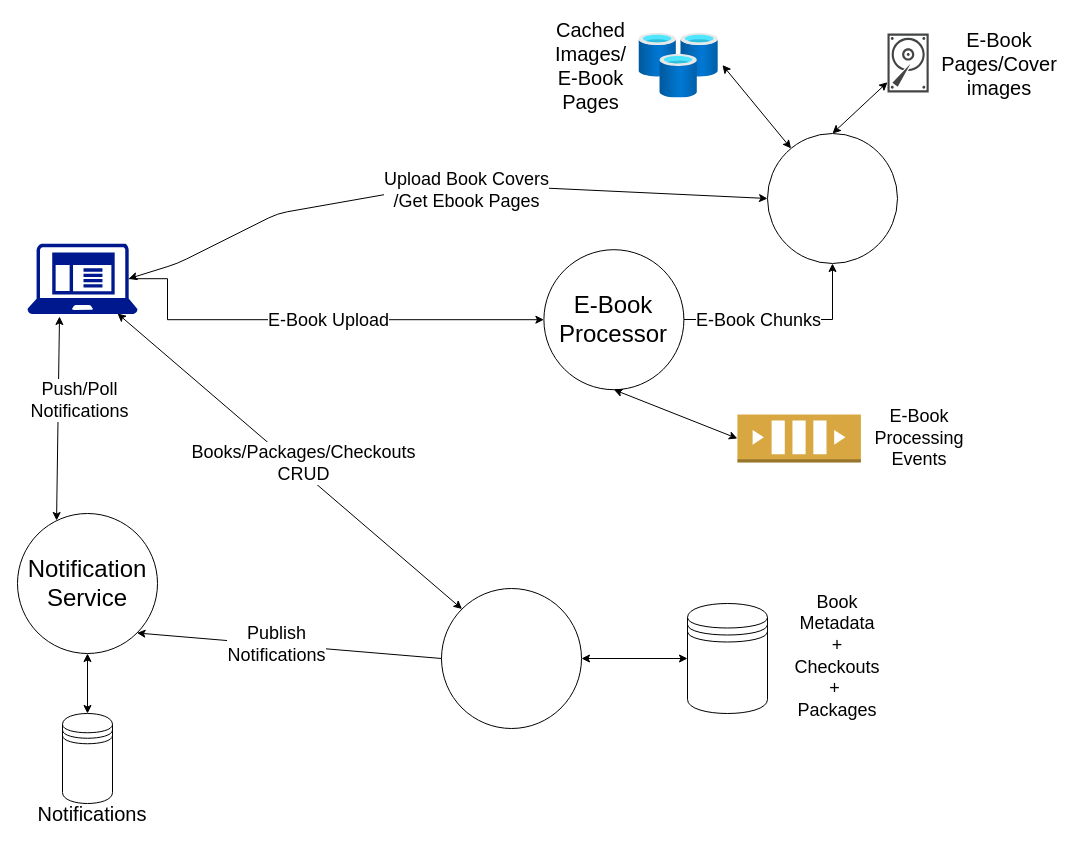
Image size: 1075x842. Some labels were removed from this diagram. Here are the shapes that lost their labels. From the top down, the centre of each, then its label:
At pixel 832 198: "Asset Service".
At pixel 511 658: "Library Service".
